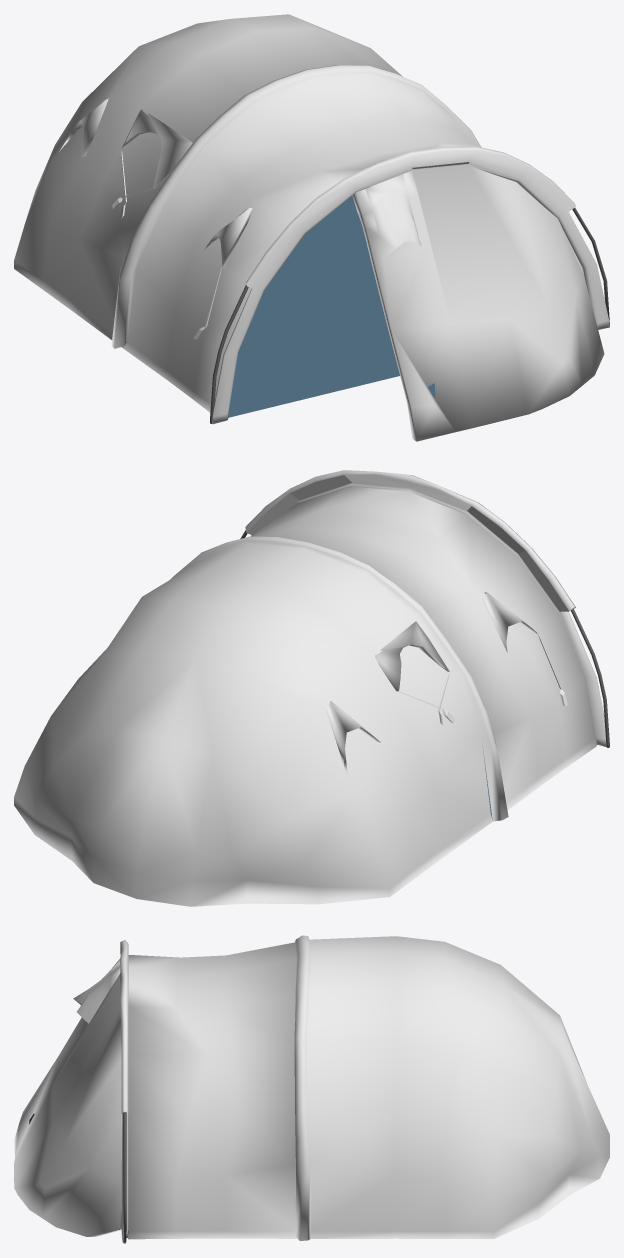
Rendered from Cabana2 SurviveZ.fbx.
3 views of the same model, one above another, from view 1: azimuth 30°, elevation 25°; view 2: azimuth 150°, elevation 25°; view 3: azimuth 270°, elevation 25° (orthographic). The views are drawn at different scales.
Parts seen in each view (by area): view 1: Barraca; view 2: Barraca; view 3: Barraca.
Boxes of the visible parts, x1,y1,x2,y2 form: Barraca: (14,14,609,441); Barraca: (14,470,609,906); Barraca: (14,935,609,1243).
Size of the model in its own units: 440 by 252 by 641.
